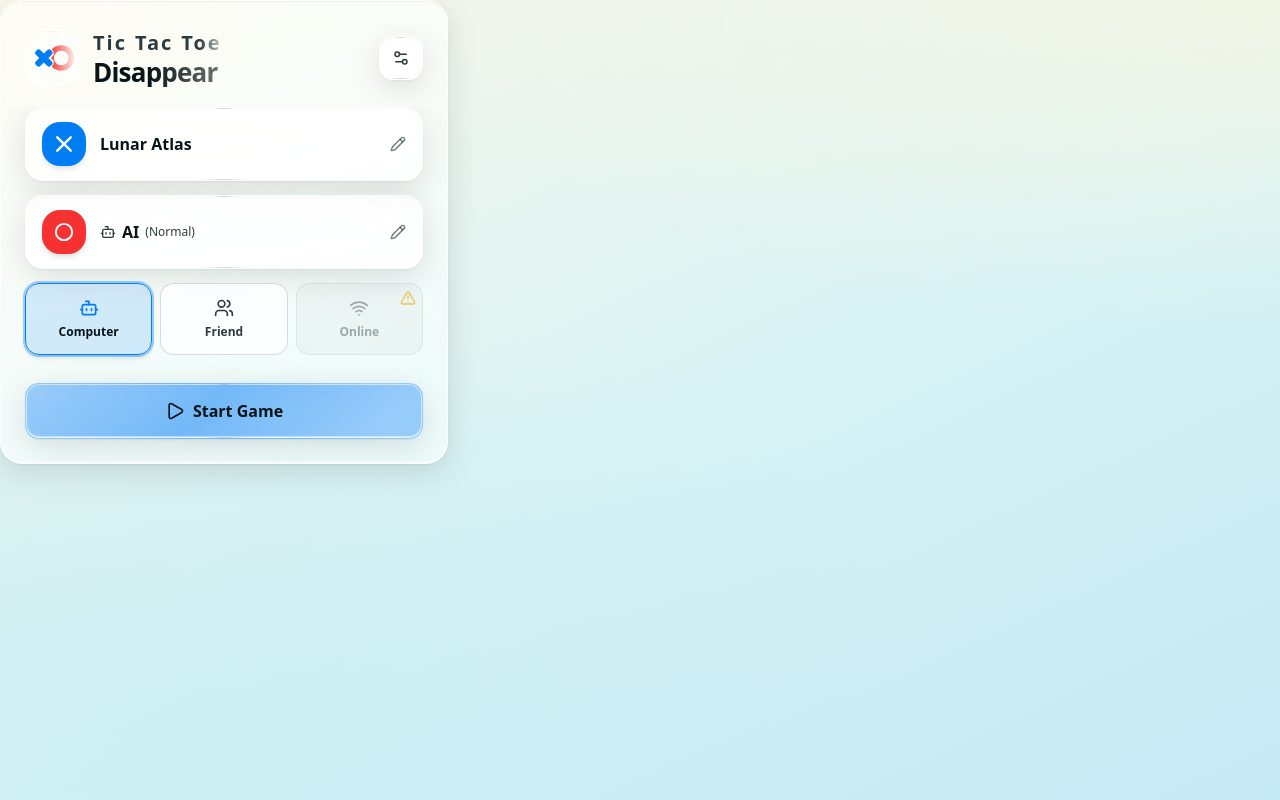
it: LobbyForm with an unreachable relay › marks the Online tile unavailable once the relay proves unreachable
Check: the text "Online mode isn't available. Try again later." is not shown
Click the radio button labelled "Online" at (359, 319), box [296,283,423,355]
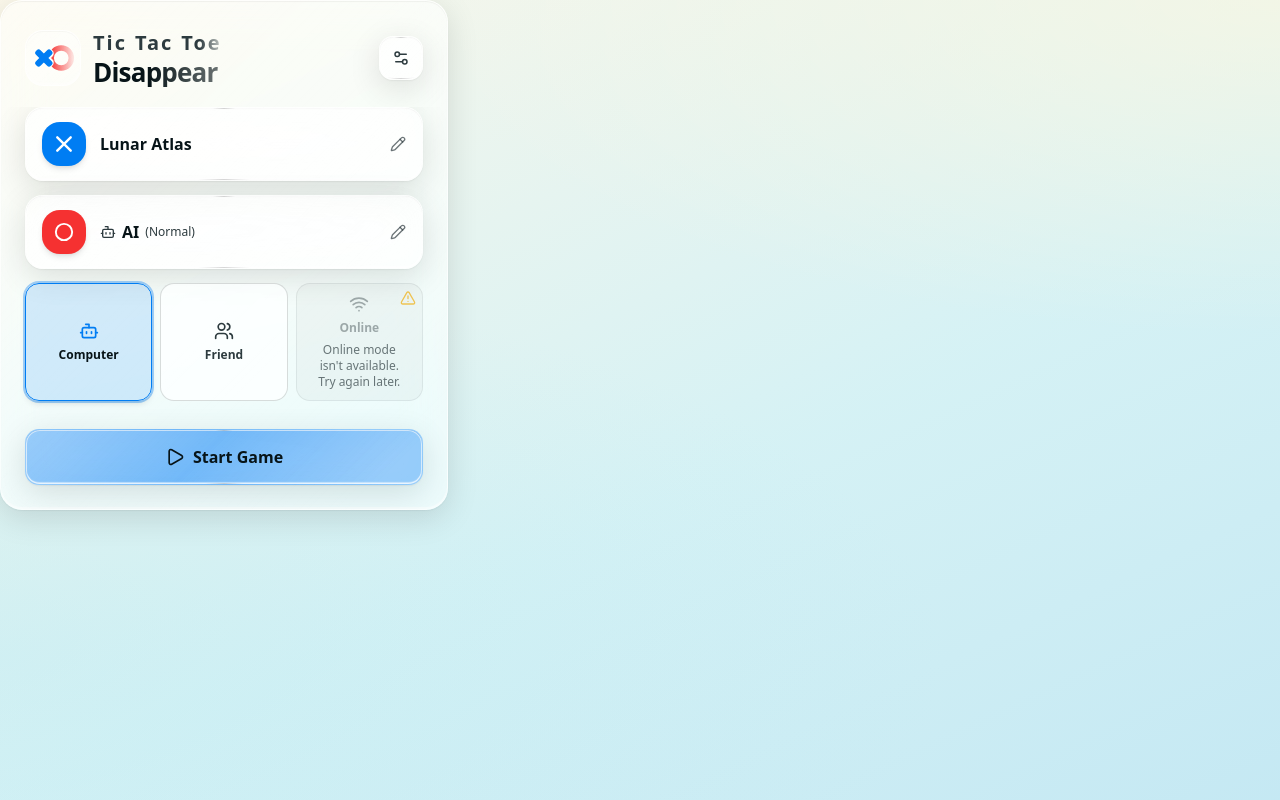
Check: the text "Online mode isn't available. Try again later." is shown, box [318,341,400,390]
